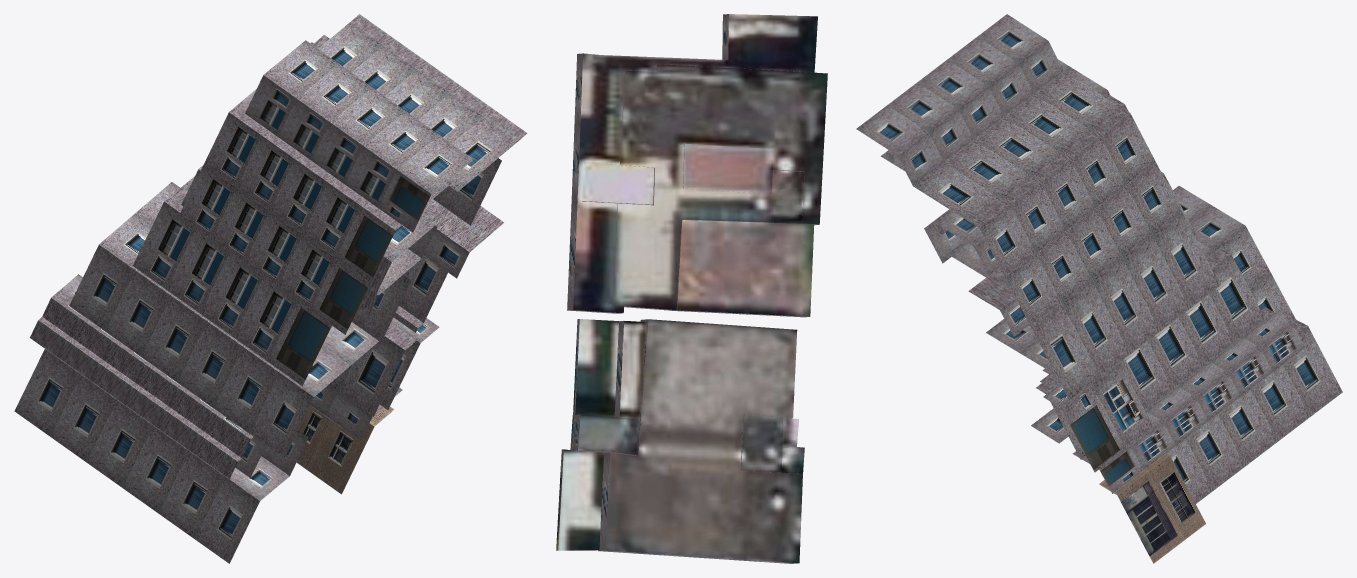
3 renders of one model, left to right at view 1: azimuth 30°, elevation 25°; view 2: azimuth 150°, elevation 25°; view 3: azimuth 270°, elevation 25°, orthographic. The views are drawn at different scales.
Size of the model in its own units: 32.12 by 43.14 by 39.9.
Materials: 40 (40 with a texture image).
